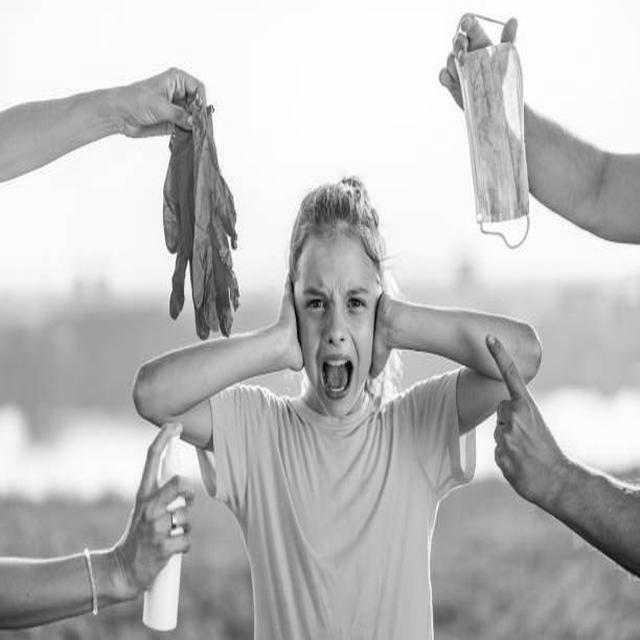Fear: (294, 232, 375, 417)
